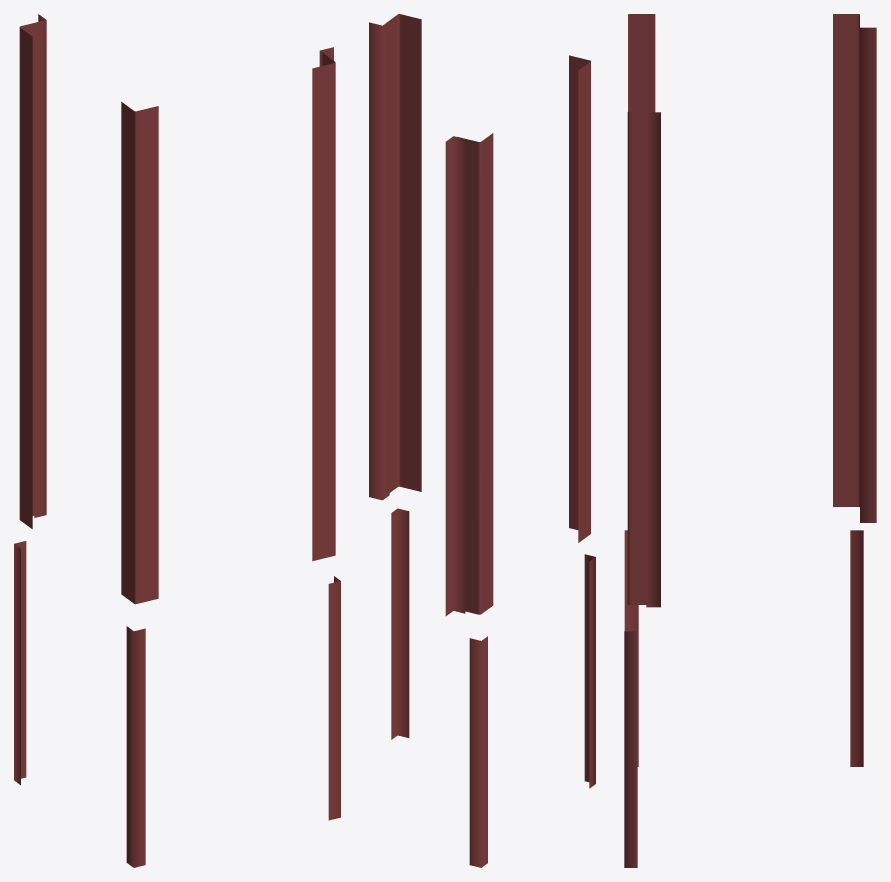
Rendered from Decal_wallIn_A_corner_outLarge.FBX.
The picture shows the model from 3 angles, left to right: view 1: azimuth 30°, elevation 25°; view 2: azimuth 150°, elevation 25°; view 3: azimuth 270°, elevation 25°; orthographic projection. The views are drawn at different scales.
Visible parts, largest first — view 1: Decal_wallIn_A_corner_outLarge; view 2: Decal_wallIn_A_corner_outLarge; view 3: Decal_wallIn_A_corner_outLarge.
Boxes of the visible parts, x1=… form: Decal_wallIn_A_corner_outLarge: x1=14, y1=14, x2=340, y2=867; Decal_wallIn_A_corner_outLarge: x1=369, y1=14, x2=595, y2=867; Decal_wallIn_A_corner_outLarge: x1=624, y1=14, x2=876, y2=867.
Bounding box in the file's own units: 76.63 × 253 × 76.7.
